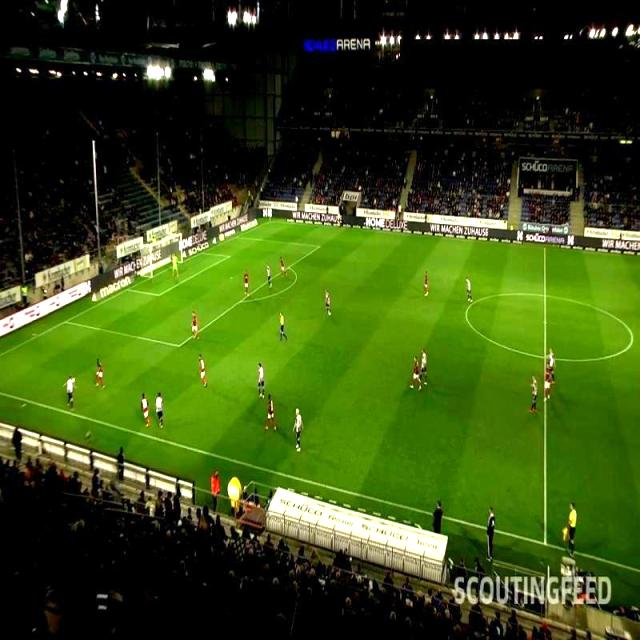bigarea_bottom_inner: (173, 341, 184, 352)
bigarea_bottom_outter: (60, 315, 72, 326)
bigarea_top_inner: (314, 240, 325, 251)
bigarea_top_outter: (232, 231, 242, 242)
bottom_arc_area_intersection: (236, 295, 247, 306)
corner: (264, 216, 275, 228)
halfcircle_bottom: (540, 352, 551, 362)
halfcircle_top: (540, 288, 551, 300)
midline_bottom_intersection: (539, 536, 553, 552)
midline_top_intersection: (540, 242, 551, 252)
smallarea_bottom_inner: (154, 288, 165, 300)
smallarea_bottom_outter: (122, 284, 134, 294)
smallarea_top_inner: (224, 250, 235, 260)
smallarea_top_outter: (196, 248, 208, 258)
top_arc_area_intersection: (284, 261, 294, 272)
